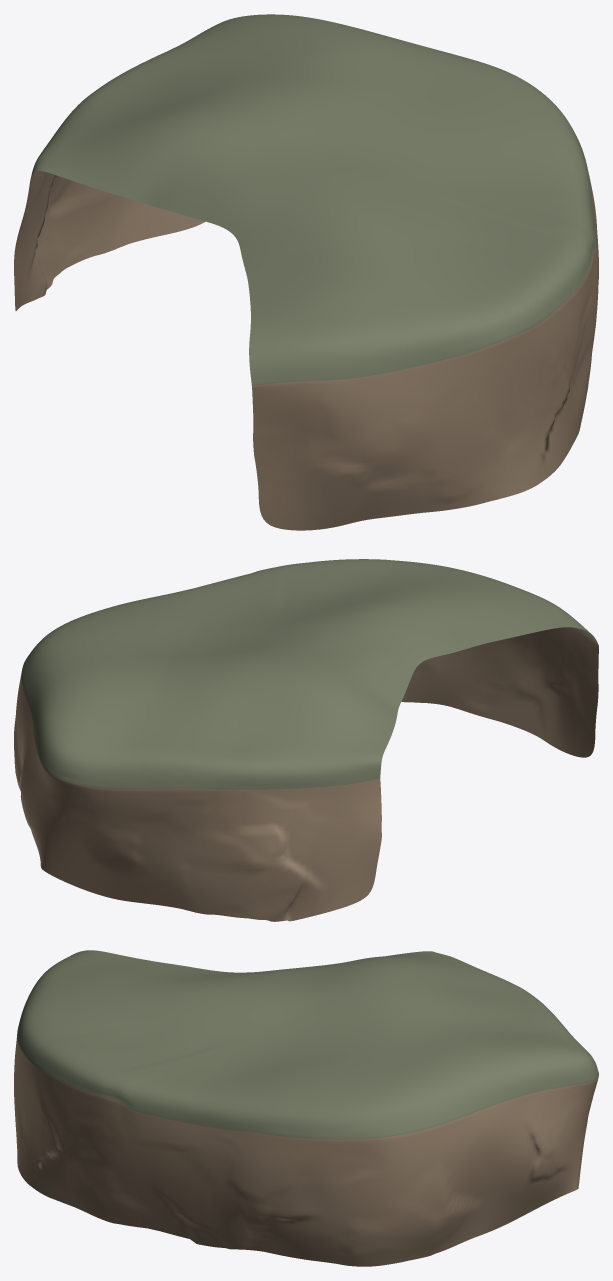
File: terrace_mid R.fbx
3 views of the same model, one above another, from view 1: azimuth 30°, elevation 25°; view 2: azimuth 150°, elevation 25°; view 3: azimuth 270°, elevation 25° (orthographic). The views are drawn at different scales.
Parts seen in each view (by area): view 1: Mid ground_R sculpt; view 2: Mid ground_R sculpt; view 3: Mid ground_R sculpt.
Part boxes in pixels (x1,y1,x2,y2): Mid ground_R sculpt: (14,14,598,530); Mid ground_R sculpt: (14,559,598,921); Mid ground_R sculpt: (14,950,598,1266).
Size of the model in its own units: 14.34 by 6.43 by 18.86.
